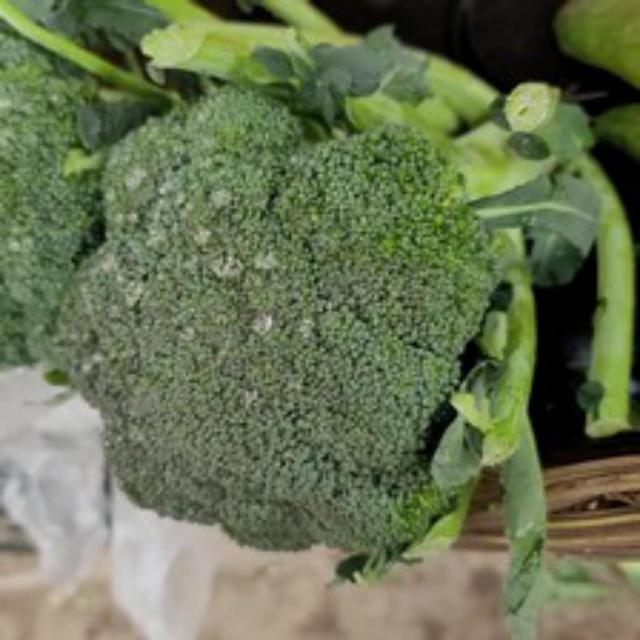broccoli: (58, 75, 521, 559)
